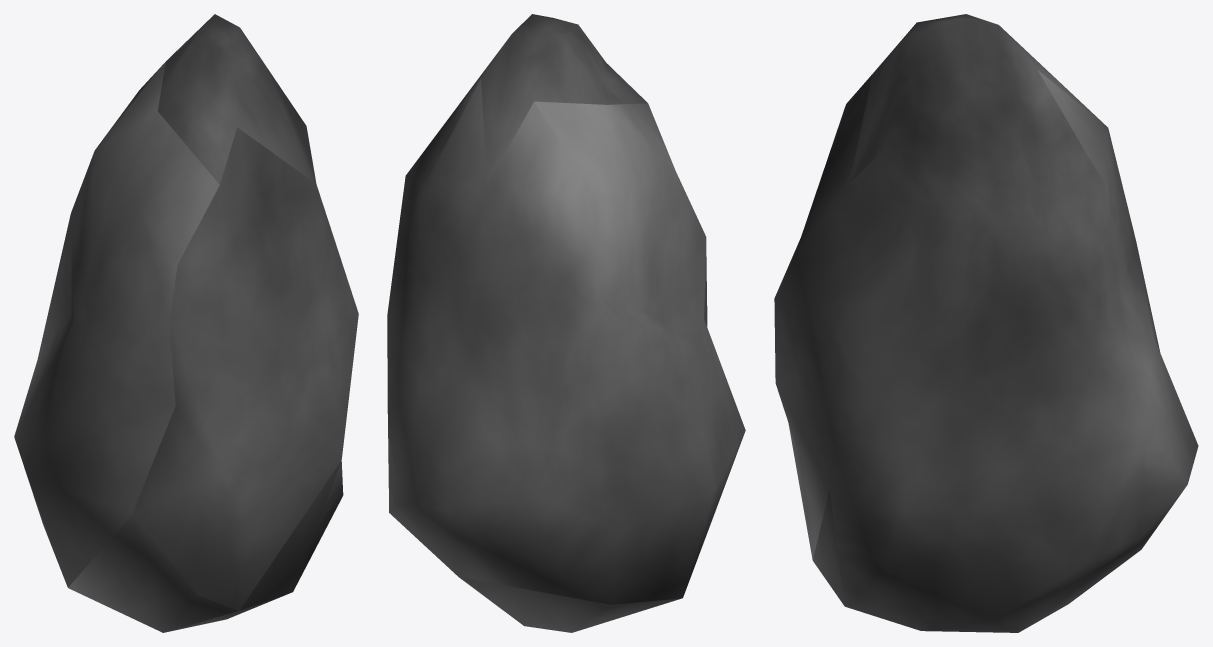
Rendered from Stone3.fbx.
The picture shows the model from 3 angles, left to right: view 1: azimuth 30°, elevation 25°; view 2: azimuth 150°, elevation 25°; view 3: azimuth 270°, elevation 25°; orthographic projection. The views are drawn at different scales.
Visible parts, largest first — view 1: Stone; view 2: Stone; view 3: Stone.
Boxes of the visible parts, x1,y1,x2,y2 form: Stone: (14, 14, 358, 632); Stone: (387, 14, 745, 632); Stone: (774, 14, 1198, 632).
Size of the model in its own units: 205 by 376 by 235.
